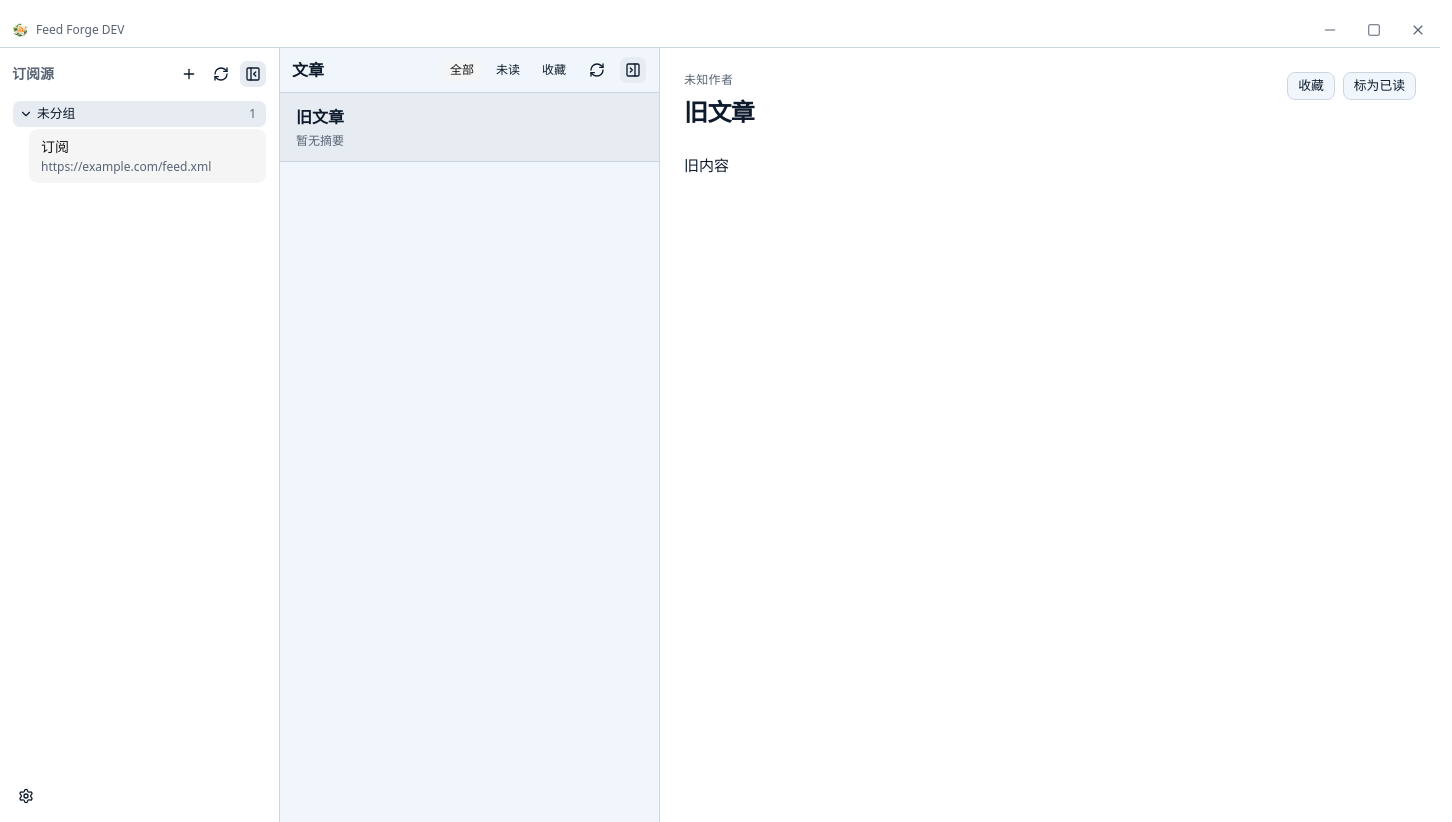
Test: a failed article write shows the safe error and retains the current article
The image size is (1452, 822).
Expected: the element showing "未知作者 旧文章 收藏 标为已读 旧内容" is shown, [684,71,1416,175]
Click the button "标为已读".
click(1379, 86)  # box [1343,72,1416,100]
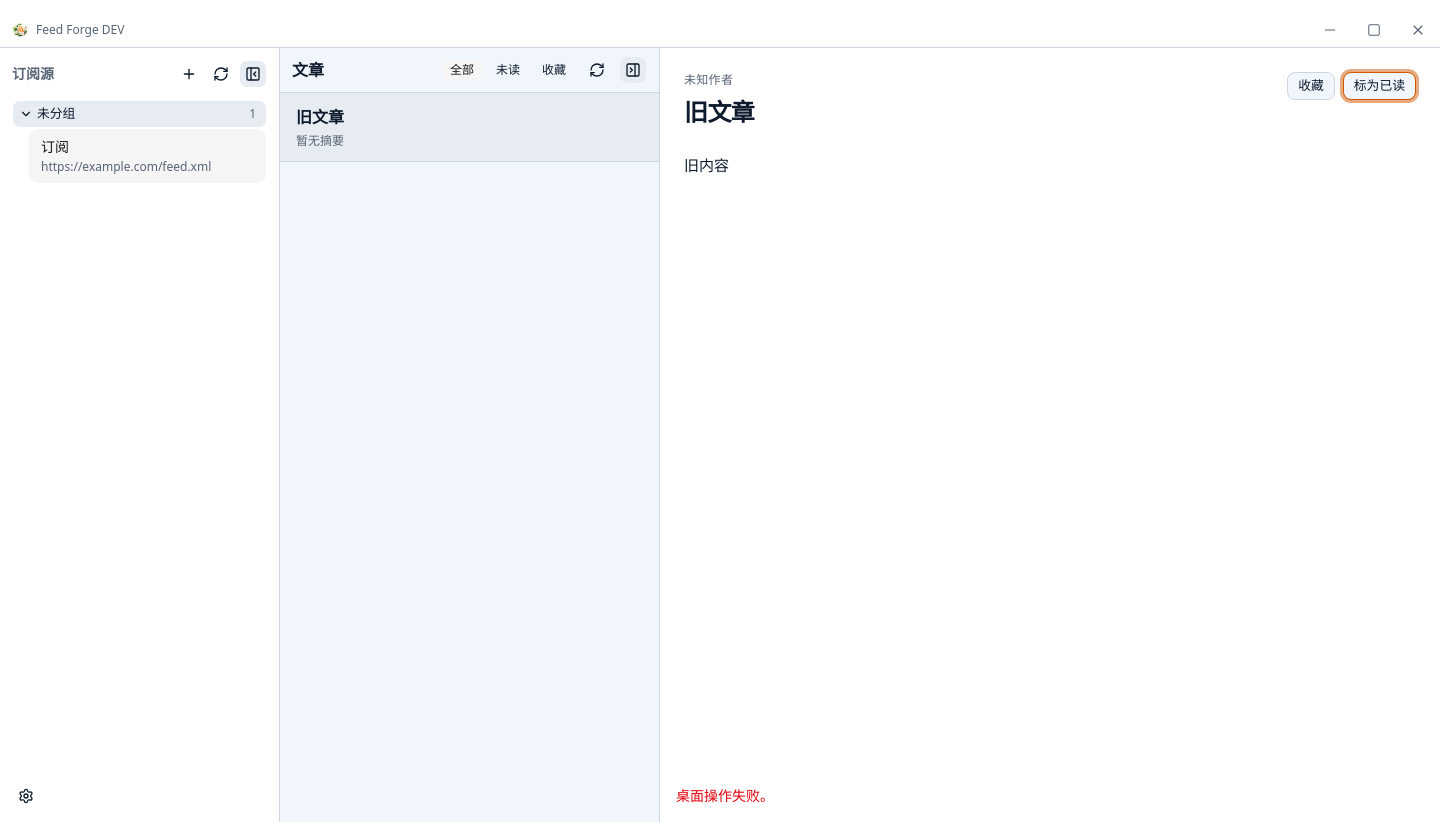
Expected: the element showing "未知作者 旧文章 收藏 标为已读 旧内容" is shown, [684,71,1416,175]
Expected: the message reads "桌面操作失败。", [676,786,774,805]
